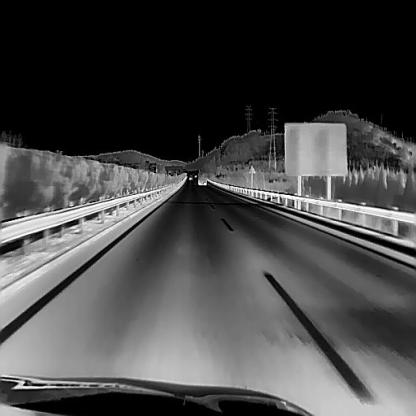truck: (197, 169, 207, 184)
